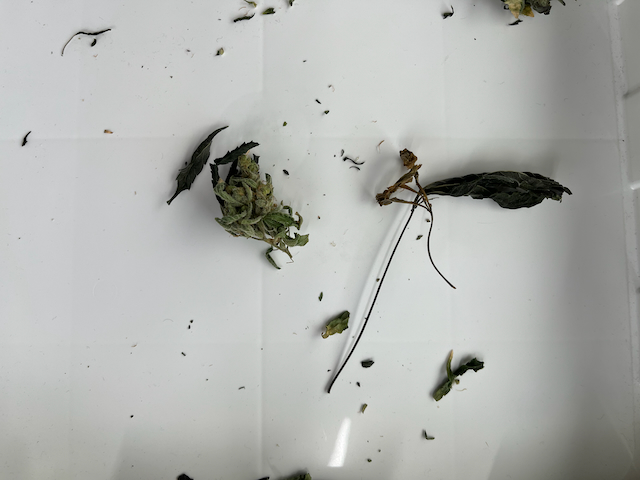Bud: (219, 151, 296, 253)
Leaf: (148, 107, 229, 207), (430, 164, 575, 208)
Stem: (339, 196, 414, 392), (425, 217, 471, 291)
